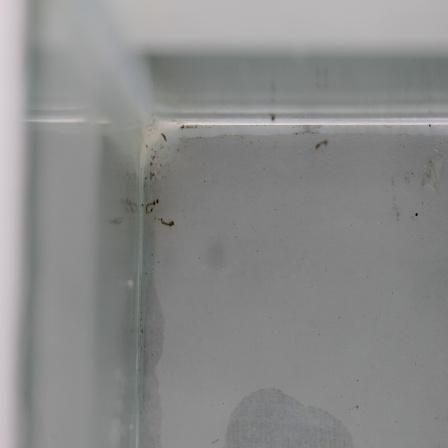Jentik-Nyamuk: (142, 193, 161, 216), (158, 212, 177, 232), (311, 137, 333, 152)
